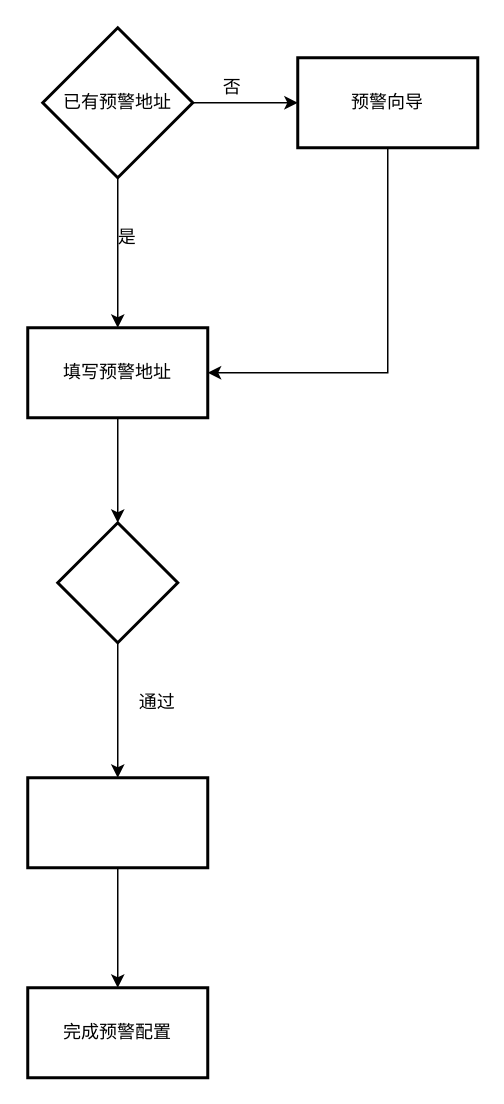
Image size: 504x1104. Some labels were removed from this diagram. The shapes that lost their labels are listed below. From the top down, each one's centre as x and y in pixels, then its label:
At point (117, 582): "连通性测试".
At point (117, 822): "填写预警通知人姓名 填写预警通知手机号 选择预警task".
